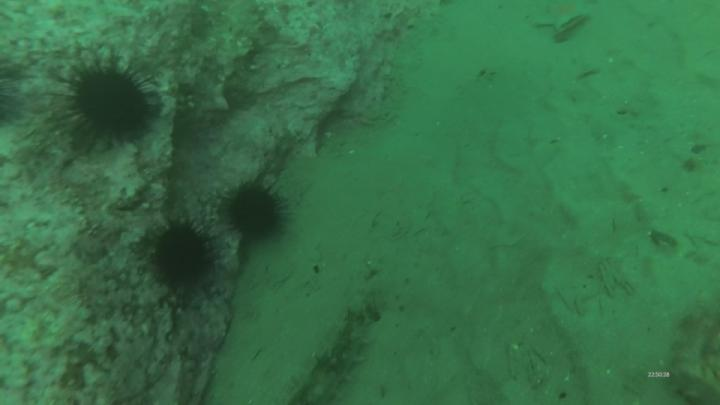echinus: (41, 51, 163, 152), (147, 216, 221, 299), (219, 179, 294, 246), (1, 49, 33, 131)
holothurian: (274, 332, 370, 405), (665, 310, 720, 405)
starfish: (531, 1, 592, 40)
